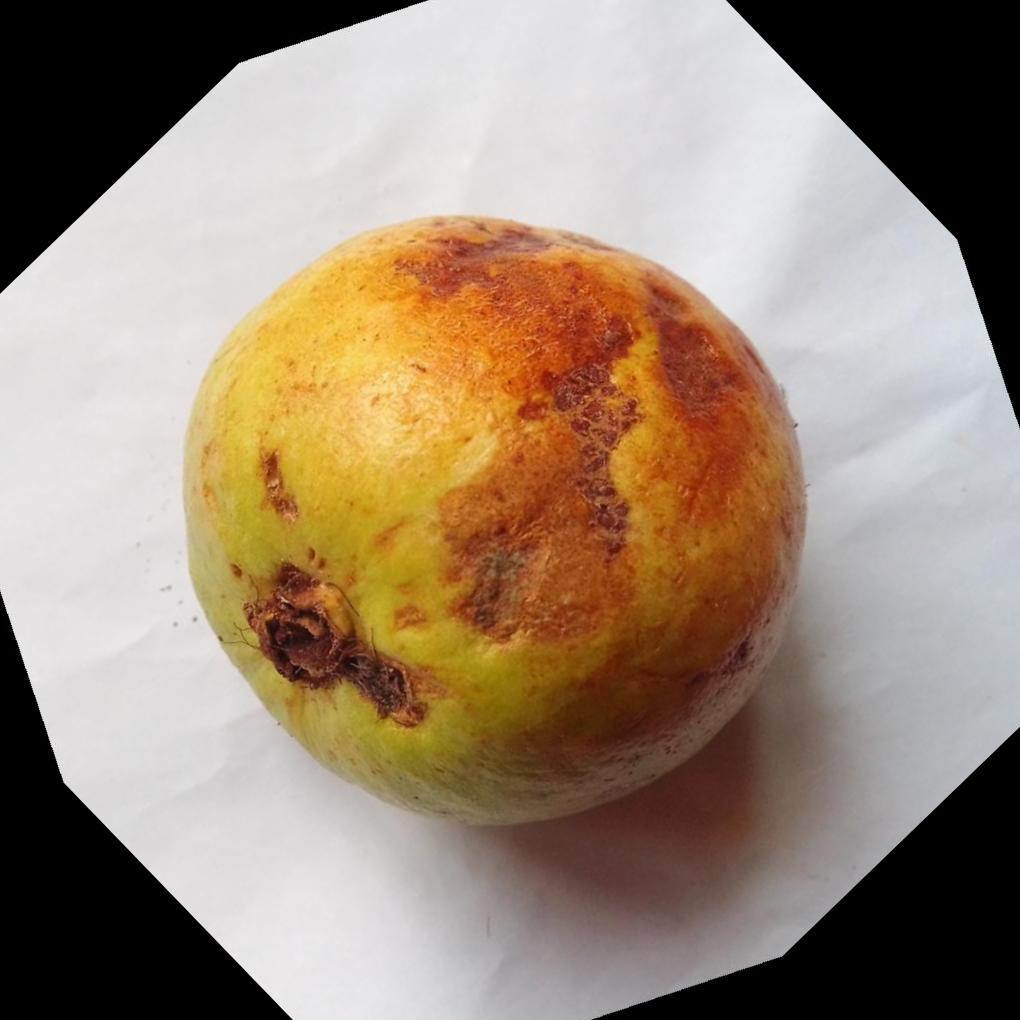FreshOrange: (180, 214, 810, 833)
